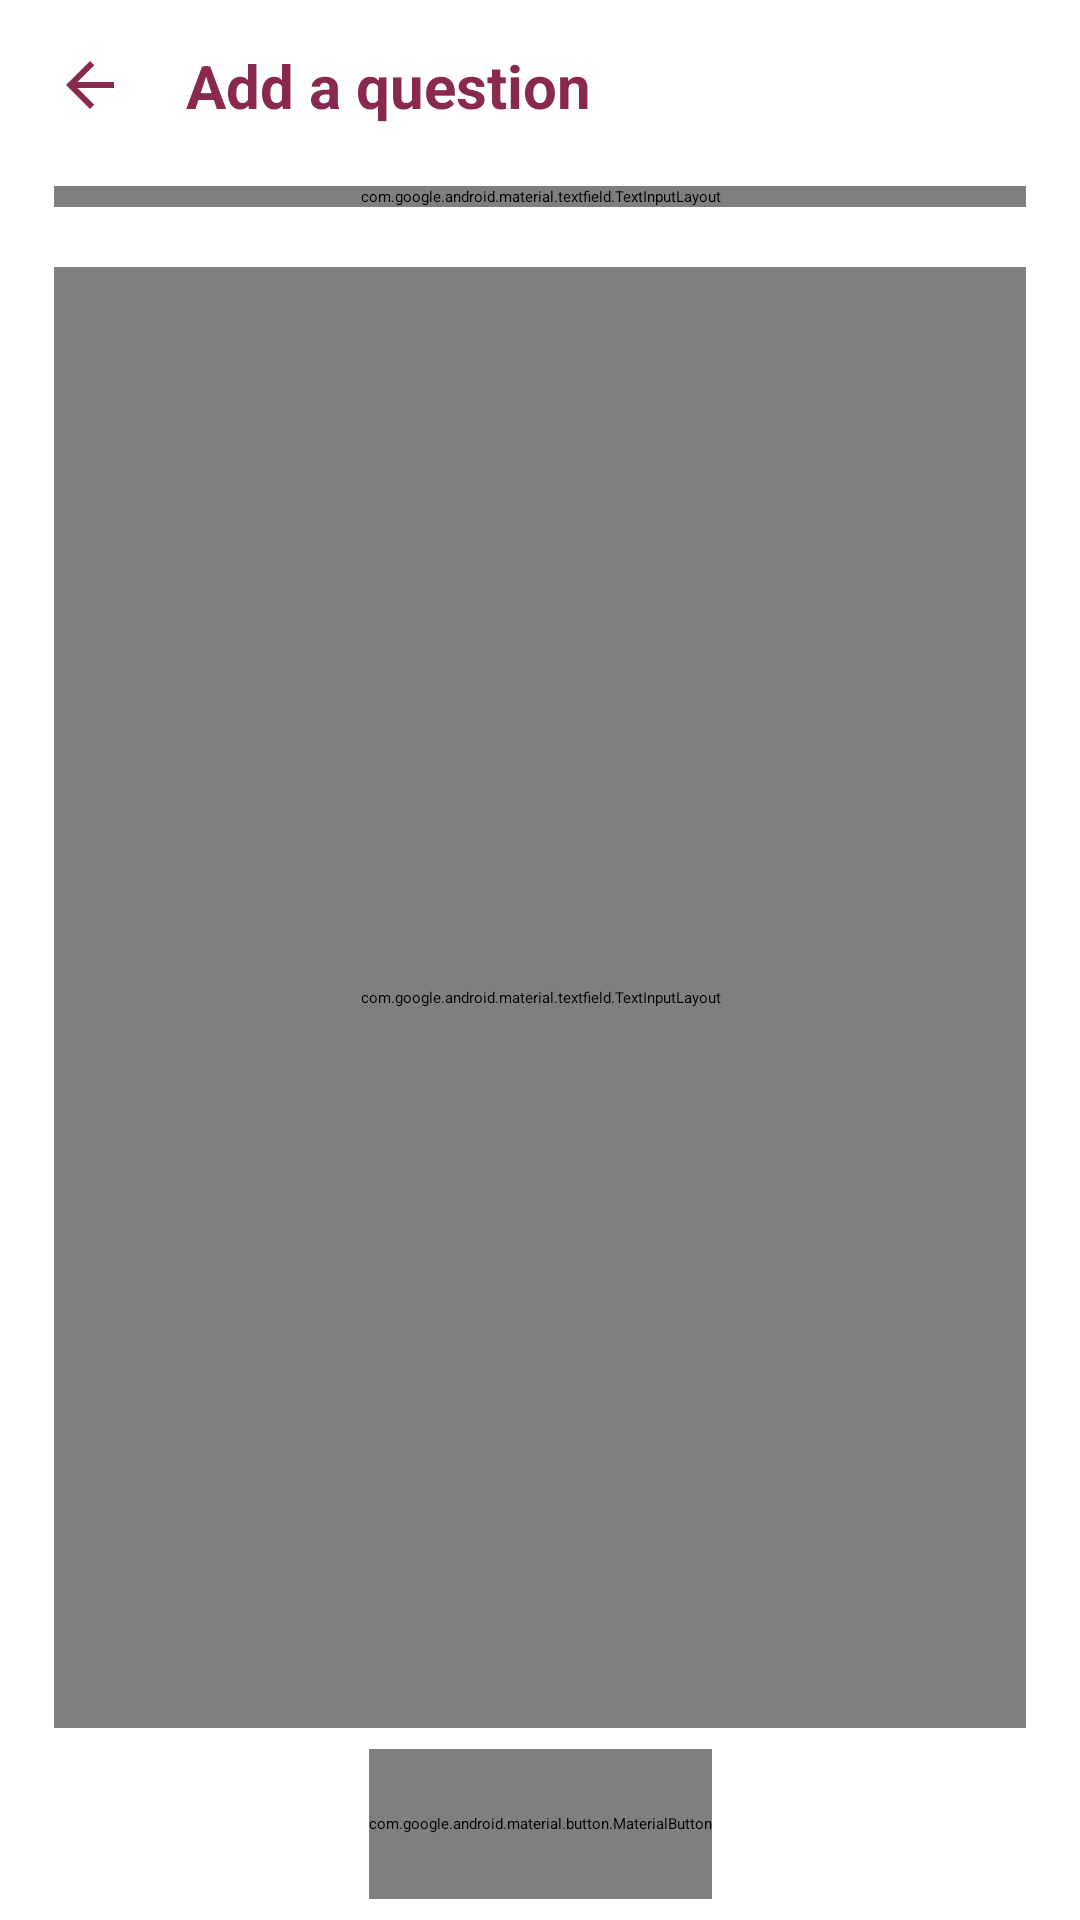

Where icons sit on this 1080w x 1920h app screen, as bbox=[x1, y1, x2, y2]:
arrow back: bbox=[66, 61, 114, 109]
